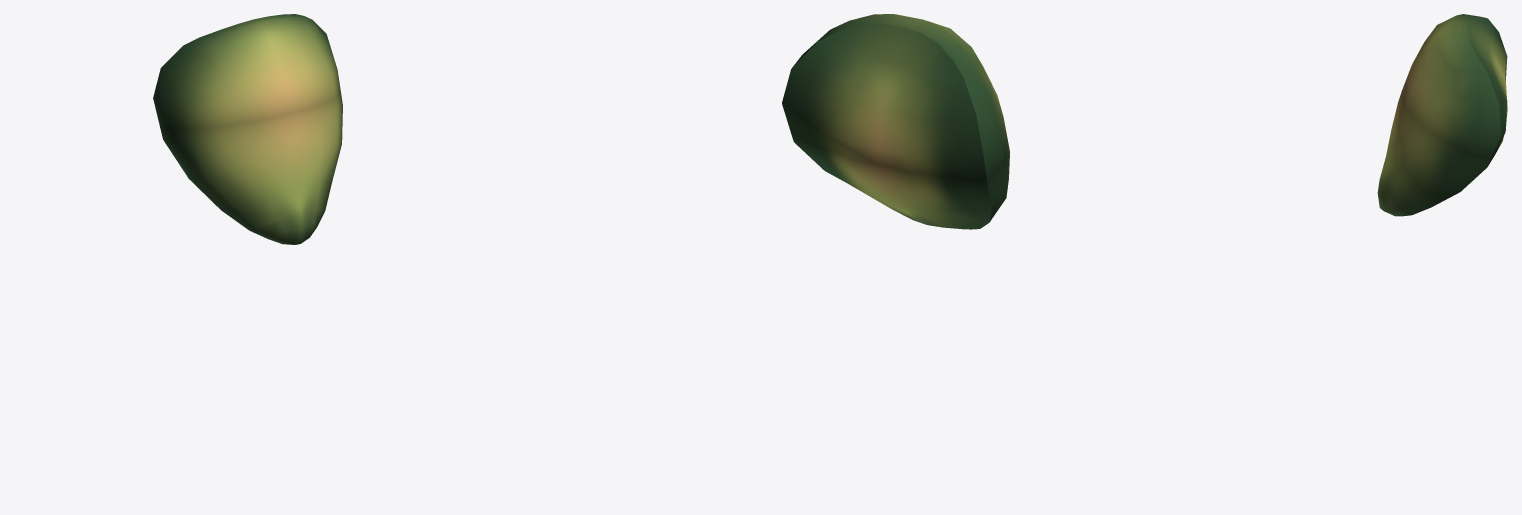
Rendered from IG_Backpack_Fly.fbx.
3 renders of one model, left to right at view 1: azimuth 30°, elevation 25°; view 2: azimuth 150°, elevation 25°; view 3: azimuth 270°, elevation 25°, orthographic. The views are drawn at different scales.
Visible parts, largest first — view 1: Boss_Fly_Wings; view 2: Boss_Fly_Wings; view 3: Boss_Fly_Wings.
Part boxes in pixels (bbox=[...]): Boss_Fly_Wings: bbox=[153, 14, 342, 244]; Boss_Fly_Wings: bbox=[782, 14, 1009, 229]; Boss_Fly_Wings: bbox=[1377, 14, 1507, 216].
Bounding box in the file's own units: 0.9129 × 0.5873 × 0.265.
